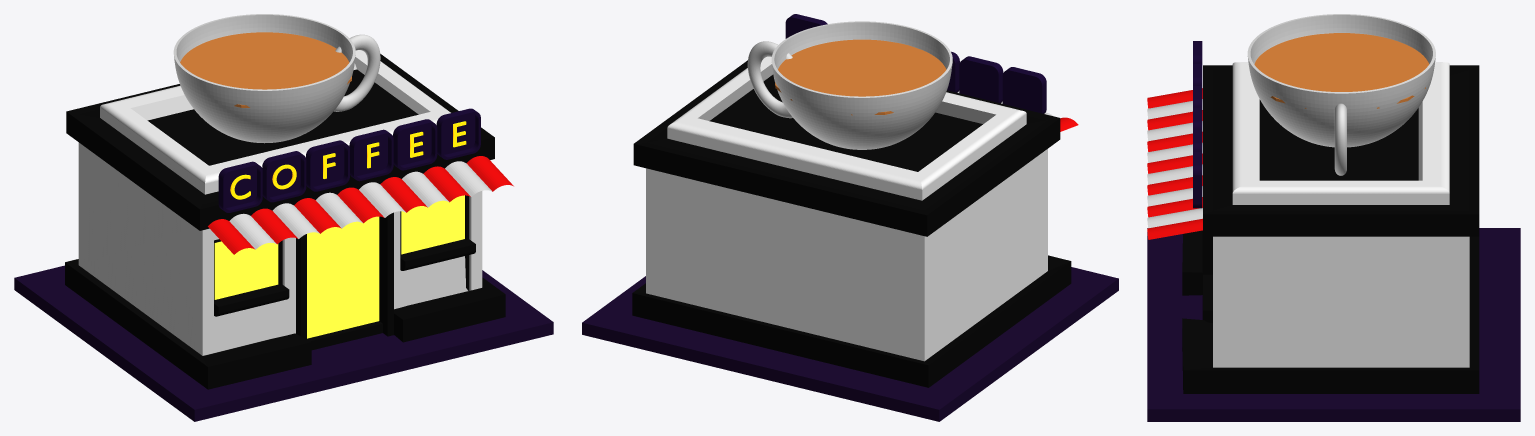
The model's file is coffee_shop__lowpoly.glb.
3 views of the same model, side by side, from view 1: azimuth 30°, elevation 25°; view 2: azimuth 150°, elevation 25°; view 3: azimuth 270°, elevation 25° (orthographic). The views are drawn at different scales.
Visible parts, largest first — view 1: Cube, Sphere, Cube.001, Cube.004, Plane, Text.002; view 2: Cube, Sphere, Cube.001, Cube.004; view 3: Cube, Cube.001, Sphere, Plane, Cube.004.
Part boxes in pixels (bbox=[...]): Cube: bbox=[65, 50, 505, 389]; Sphere: bbox=[173, 14, 380, 143]; Cube.001: bbox=[14, 265, 553, 421]; Cube.004: bbox=[218, 108, 480, 212]; Plane: bbox=[208, 156, 513, 254]; Text.002: bbox=[230, 121, 466, 199]; Cube: bbox=[632, 56, 1071, 387]; Sphere: bbox=[747, 21, 952, 149]; Cube.001: bbox=[582, 267, 1118, 421]; Cube.004: bbox=[785, 14, 1046, 113]; Cube: bbox=[1182, 62, 1479, 393]; Cube.001: bbox=[1147, 228, 1520, 421]; Sphere: bbox=[1247, 14, 1435, 175]; Plane: bbox=[1147, 88, 1202, 239]; Cube.004: bbox=[1193, 41, 1202, 208].
Bounding box in the file's own units: 7.35 × 5.11 × 6.39.
